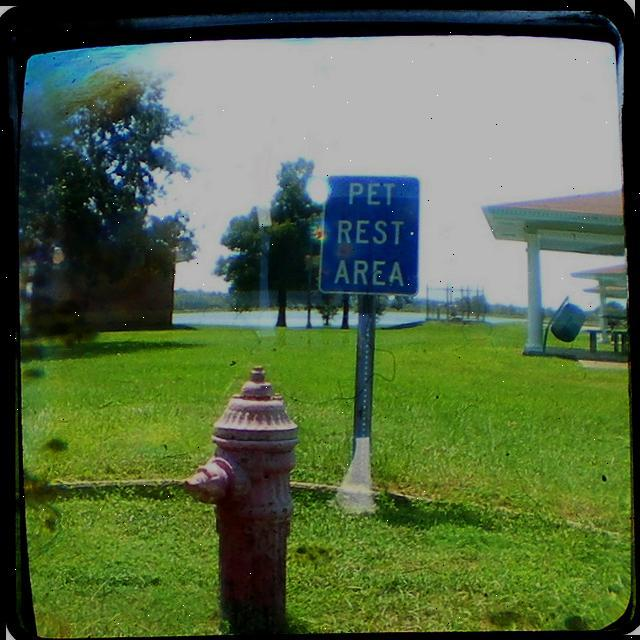fire_hydrant: (175, 363, 302, 632)
